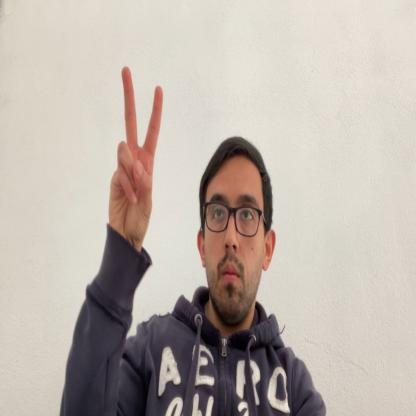V: (108, 65, 164, 240)
